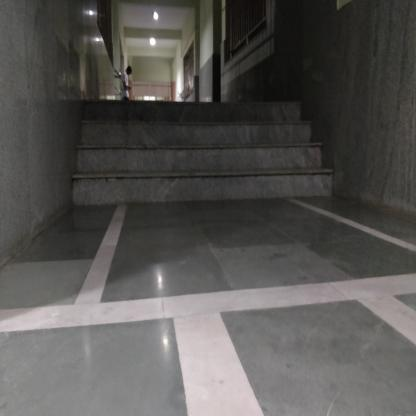stairs: (97, 99, 298, 211)
